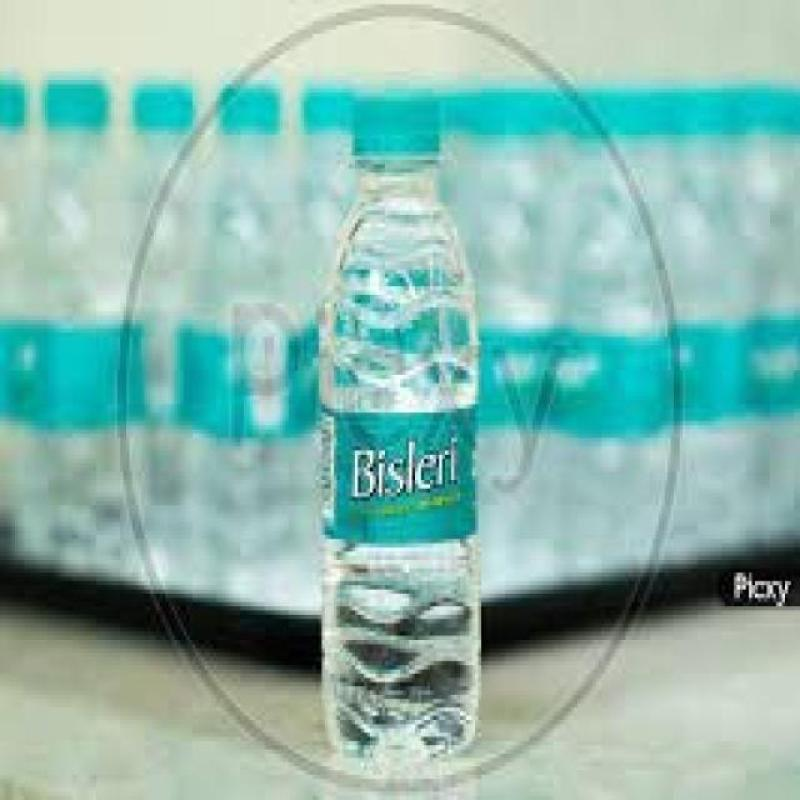botella: (318, 86, 488, 772), (552, 83, 678, 588), (201, 85, 301, 610), (32, 71, 128, 590), (659, 78, 755, 550), (118, 76, 203, 590), (478, 82, 553, 592), (742, 63, 800, 561), (0, 73, 30, 571), (440, 86, 494, 326), (298, 82, 354, 284)
